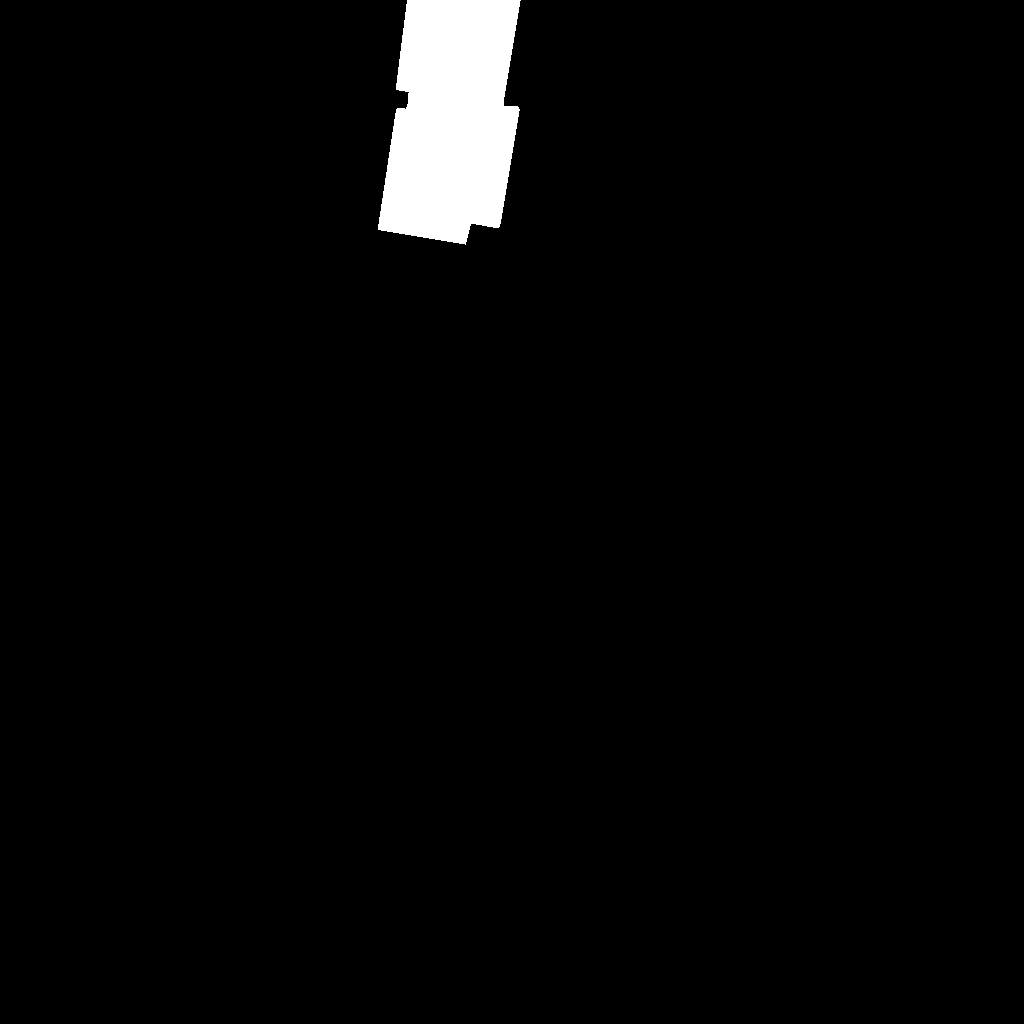building: (378, 0, 521, 245)
